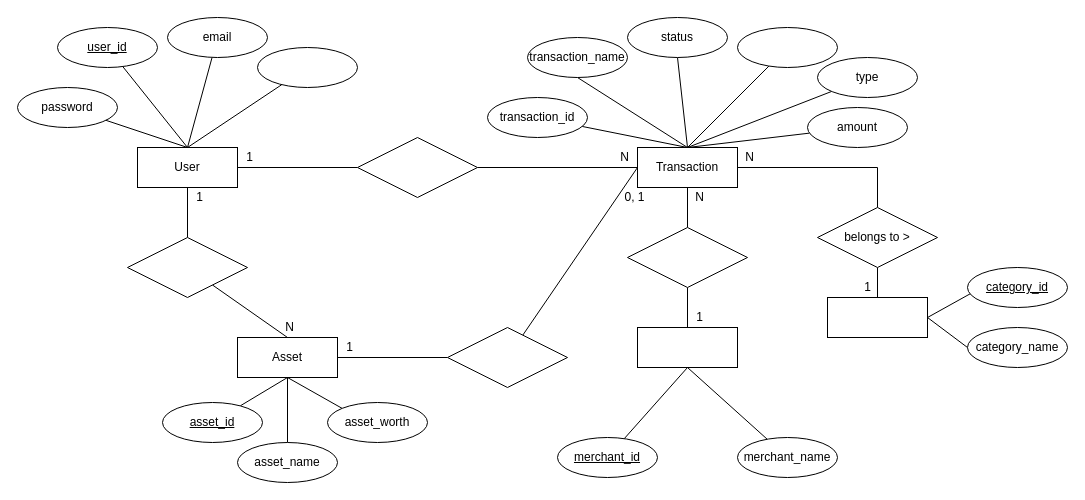
This 1085x500 diagram has some shape labels left out. Each missing label, with the centre of its shape:
Category: pixel 877 317
datetime: pixel 787 47
from >: pixel 687 257
has >: pixel 417 167
Merchant: pixel 687 347
owns >: pixel 187 267
purchases_in >: pixel 507 357
username: pixel 307 67
